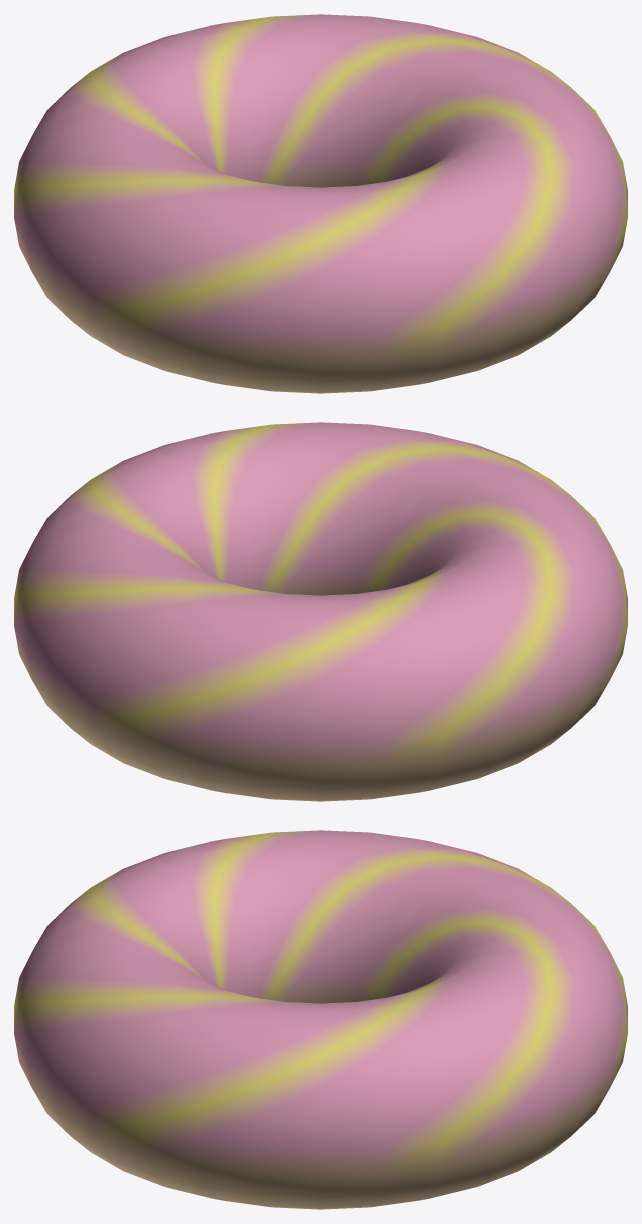
Rendered from donut.glb.
3 renders of one model, top to bottom at view 1: azimuth 30°, elevation 25°; view 2: azimuth 150°, elevation 25°; view 3: azimuth 270°, elevation 25°, orthographic.
Bounding box in the file's own units: 2.26 × 0.76 × 2.25.
